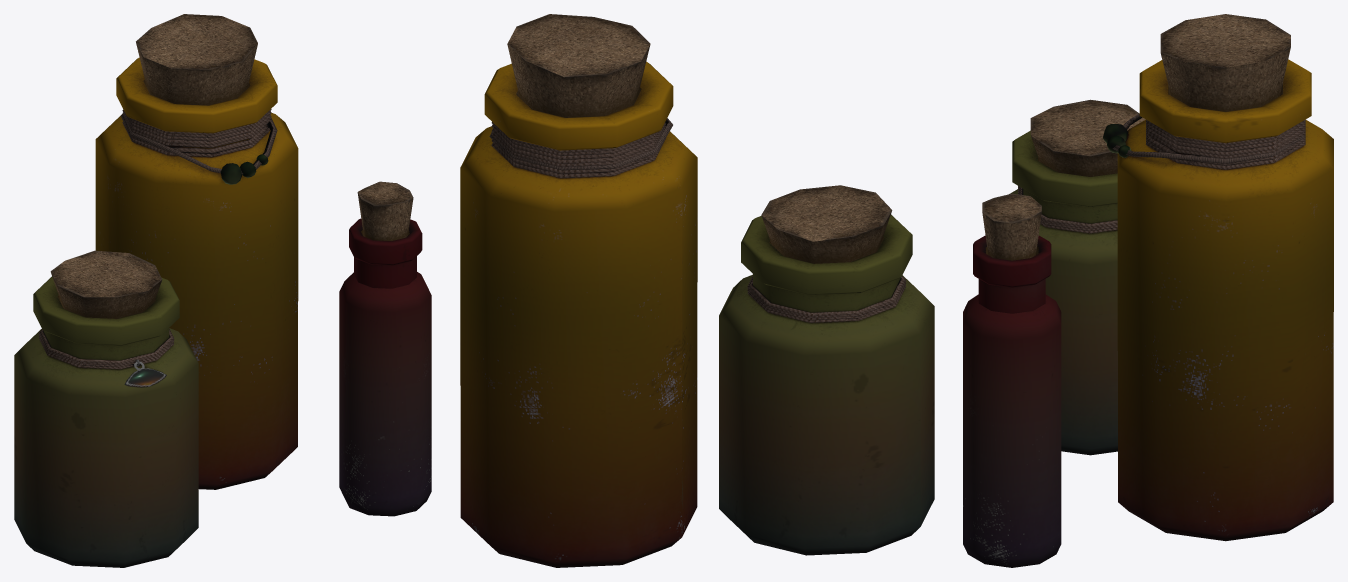
The picture shows the model from 3 angles, left to right: view 1: azimuth 30°, elevation 25°; view 2: azimuth 150°, elevation 25°; view 3: azimuth 270°, elevation 25°; orthographic projection. The views are drawn at different scales.
Parts seen in each view (by area): view 1: Potion_01, Potion_03, Potion_02; view 2: Potion_01, Potion_03; view 3: Potion_01, Potion_02, Potion_03.
Part boxes in pixels (bbox=[...]): Potion_01: bbox=[95, 14, 298, 489]; Potion_03: bbox=[14, 250, 198, 567]; Potion_02: bbox=[339, 181, 431, 516]; Potion_01: bbox=[460, 14, 697, 567]; Potion_03: bbox=[719, 185, 934, 555]; Potion_01: bbox=[1103, 14, 1333, 541]; Potion_02: bbox=[963, 193, 1061, 567]; Potion_03: bbox=[1009, 99, 1145, 455].
Bounding box in the file's own units: 0.2985 × 0.3232 × 0.2359.
1 material, 1 textured.
